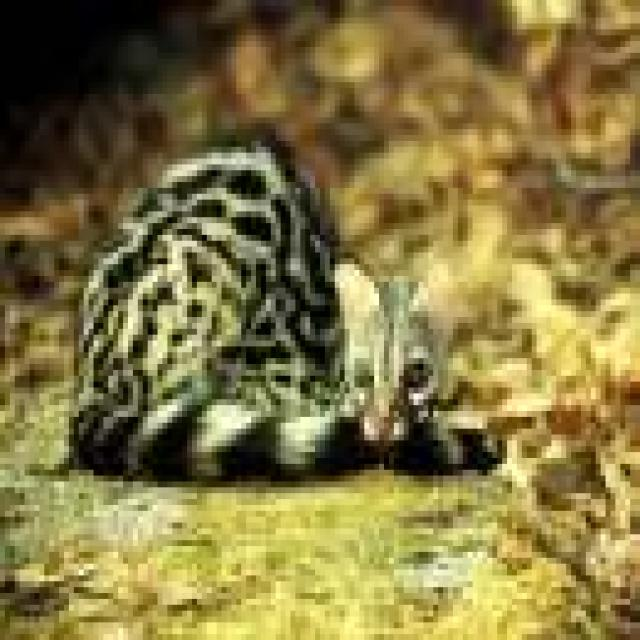Leopard: (44, 94, 527, 505)
